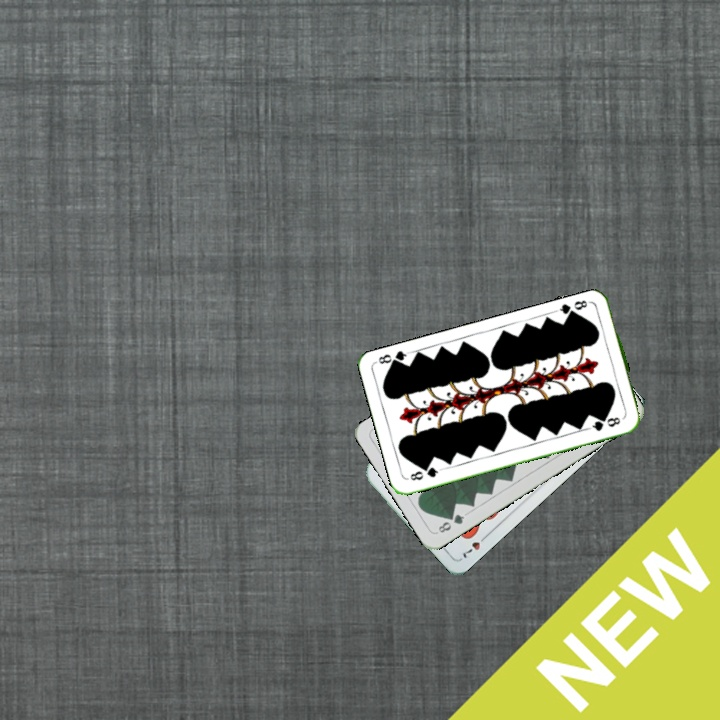G8: (553, 296, 594, 320), (433, 510, 467, 536), (406, 463, 444, 483)
H7: (458, 530, 491, 561)
